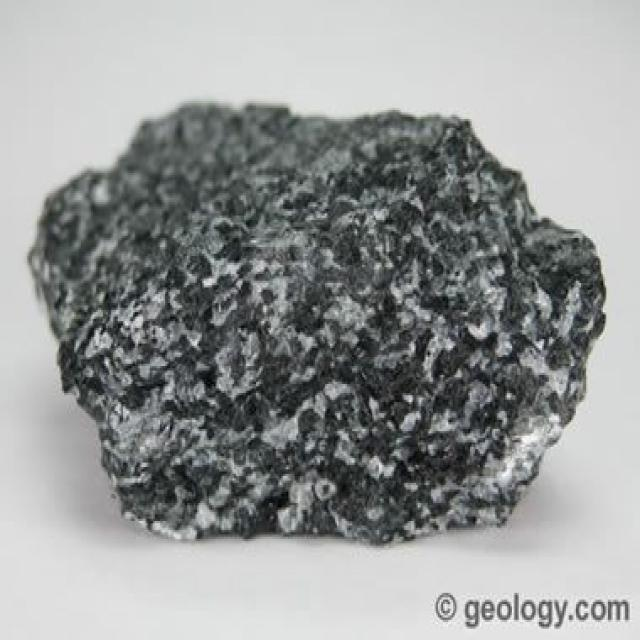Metamorphic: (28, 85, 620, 539)
